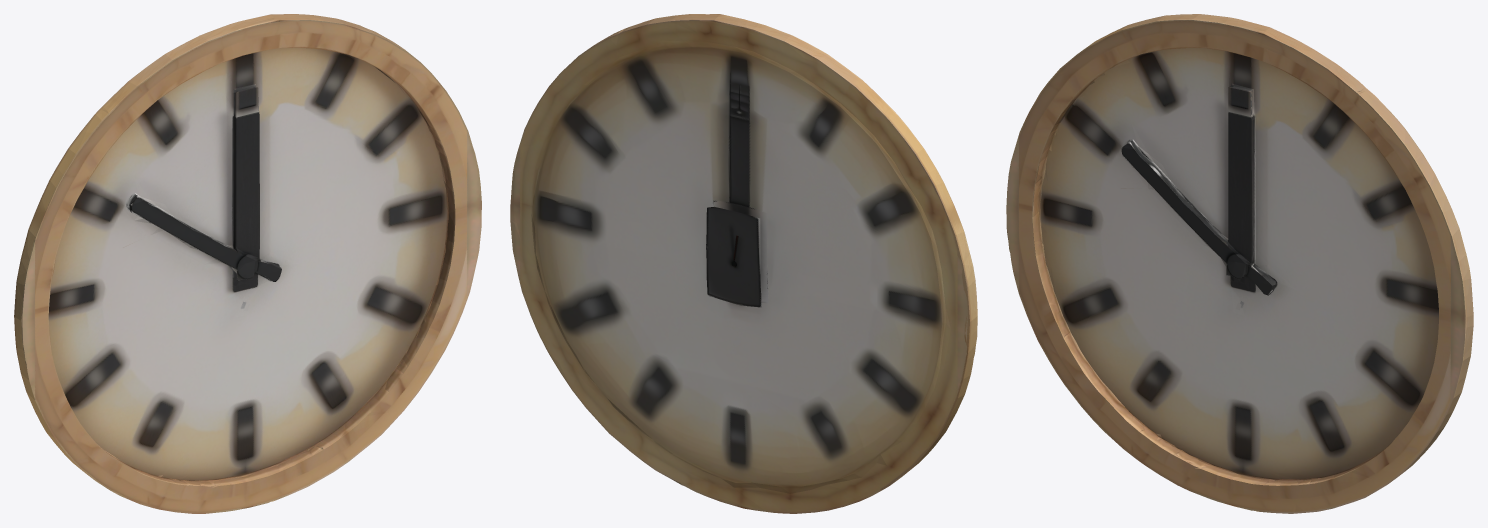
The model's file is Wall_clock_with_round_0625190512_texture.fbx.
3 views of the same model, side by side, from view 1: azimuth 30°, elevation 25°; view 2: azimuth 150°, elevation 25°; view 3: azimuth 330°, elevation 25° (orthographic).
Visible parts, largest first — view 1: temp; view 2: temp; view 3: temp.
Part boxes in pixels (<box>): temp: <box>14,14,481,513</box>; temp: <box>510,14,977,513</box>; temp: <box>1006,14,1473,513</box>.
Bounding box in the file's own units: 200 × 200 × 11.82.
1 material, 1 textured.
